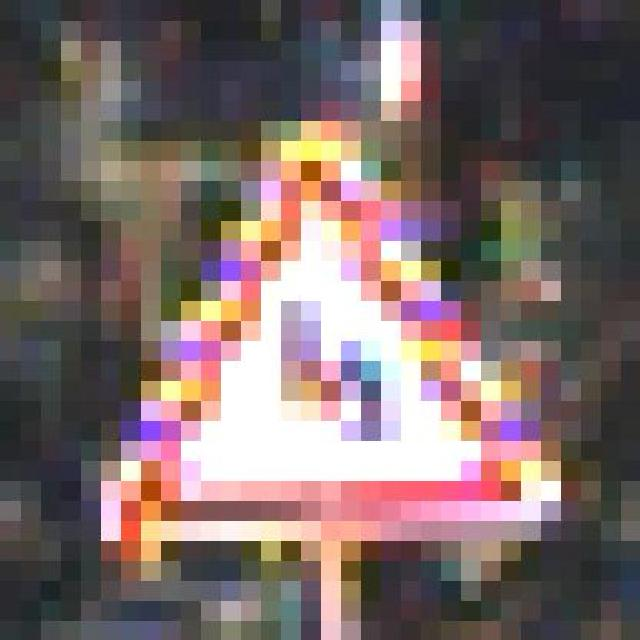Left Zig Zag Traffic: (89, 80, 569, 580)
